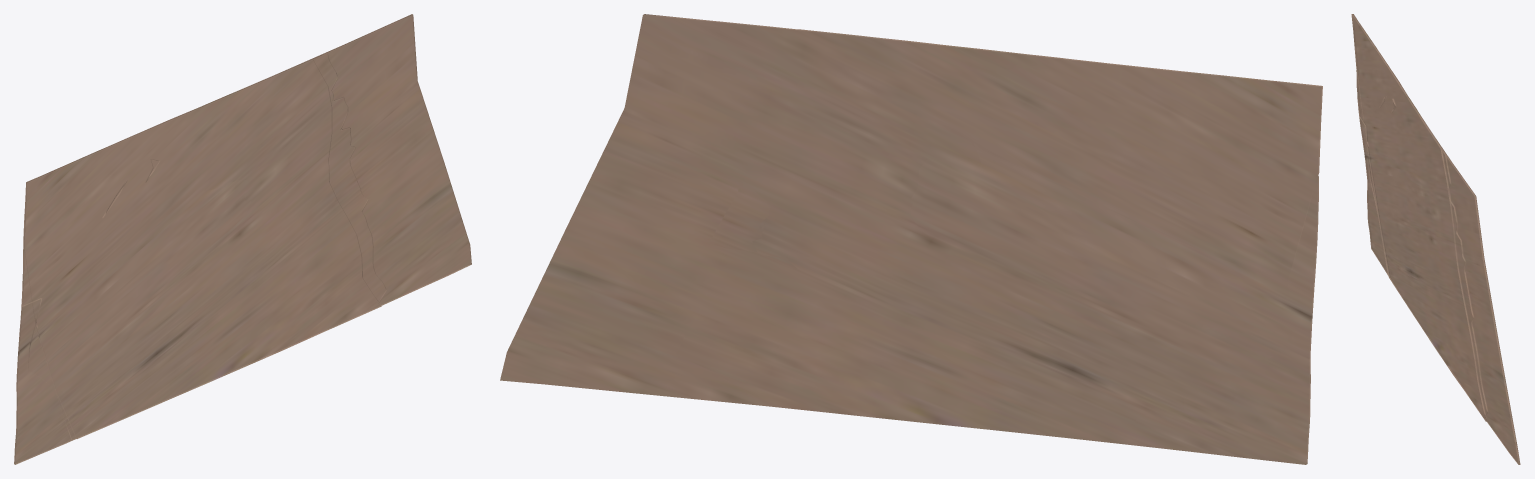
3 views of the same model, side by side, from view 1: azimuth 30°, elevation 25°; view 2: azimuth 150°, elevation 25°; view 3: azimuth 270°, elevation 25° (orthographic). The views are drawn at different scales.
Bounding box in the file's own units: 25.98 × 13.17 × 8.59.
1 material, 1 textured.
